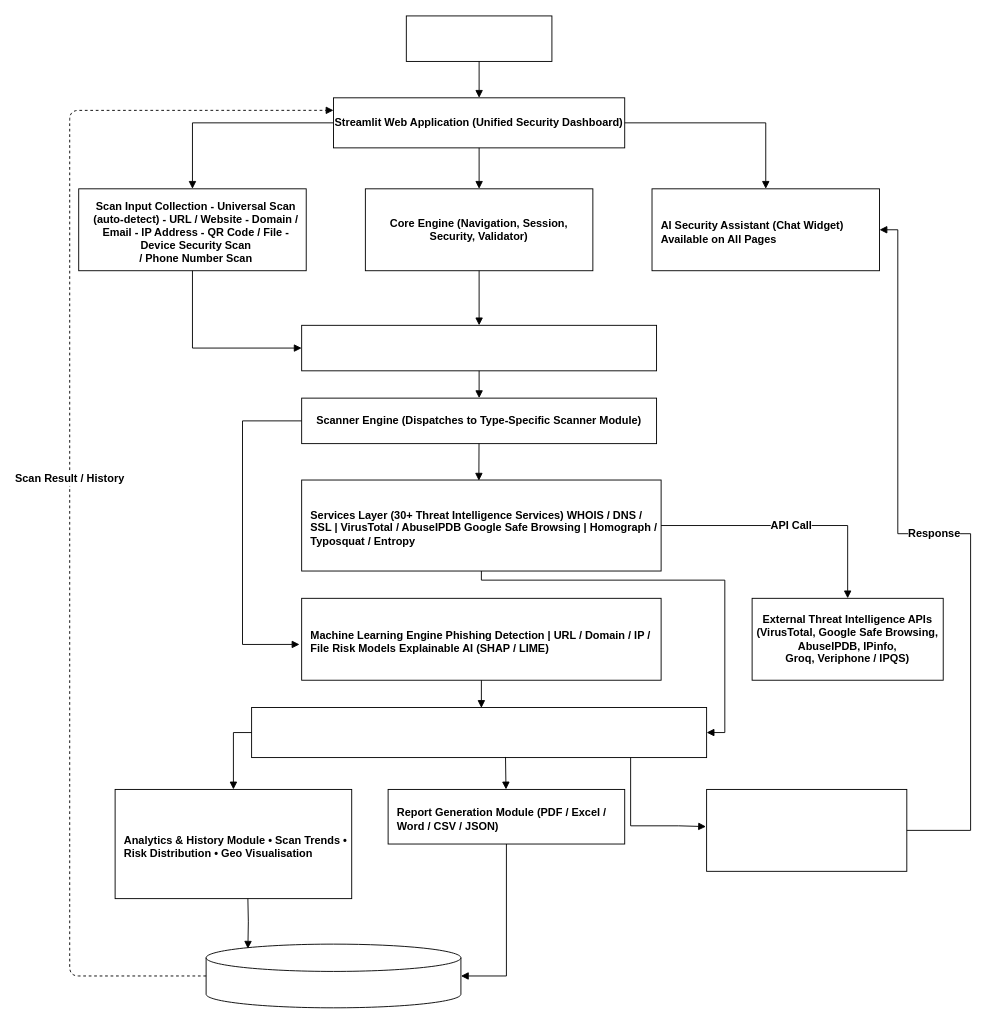
This 995x1024 diagram has some shape labels left out. The shapes that lost their labels are listed below. From the top down, each one's centre as x and y in pixels, then its label:
At point (478, 38): "User".
At point (479, 347): "Input Validation & Sanitization".
At point (479, 732): "Risk Engine (Aggregate Score & Classify: Safe / Low / Medium / High / Critical)".
At point (806, 830): "AI Assistant Response (Plain-language Explanation & Recommendations)".
At point (333, 975): "SQLite Database (cybermind.db)".
